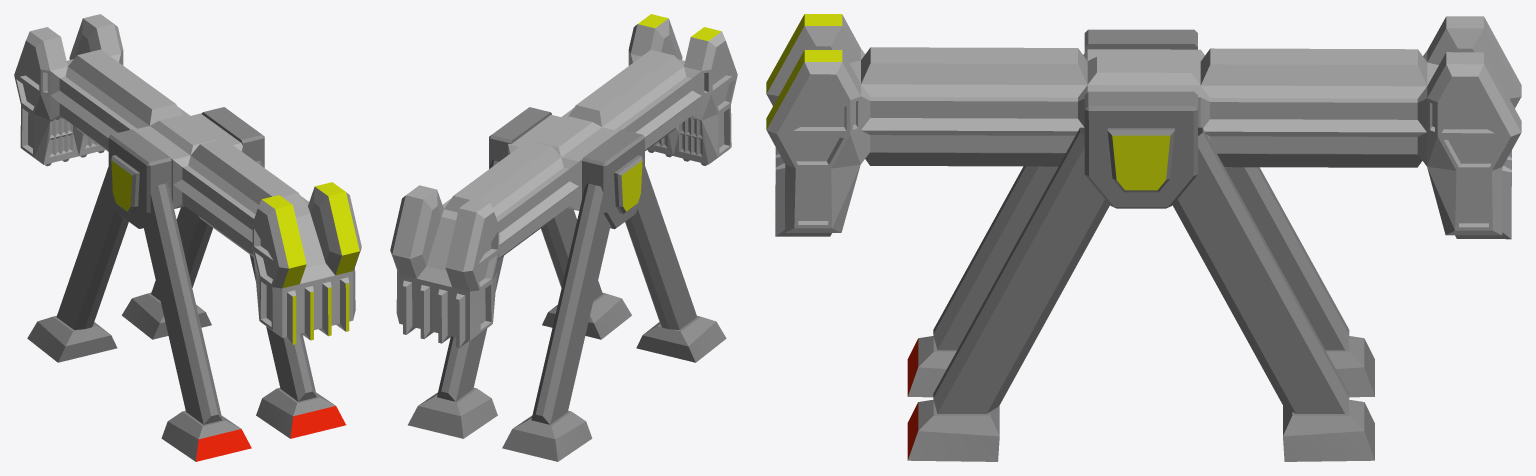
File: derrick-mobile.glb
3 views of the same model, side by side, from view 1: azimuth 30°, elevation 25°; view 2: azimuth 150°, elevation 25°; view 3: azimuth 270°, elevation 25° (orthographic). The views are drawn at different scales.
Parts seen in each view (by area): view 1: OilDerrick_Beam, OilDerrick_Holder; view 2: OilDerrick_Beam, OilDerrick_Holder; view 3: OilDerrick_Beam, OilDerrick_Holder.
Boxes of the visible parts, x1,y1,x2,y2 form: OilDerrick_Beam: [14, 14, 361, 344]; OilDerrick_Holder: [27, 107, 345, 461]; OilDerrick_Beam: [390, 14, 737, 347]; OilDerrick_Holder: [408, 107, 726, 461]; OilDerrick_Beam: [766, 14, 1521, 239]; OilDerrick_Holder: [907, 29, 1374, 461].
Bounding box in the file's own units: 6.52 × 10.92 × 20.
